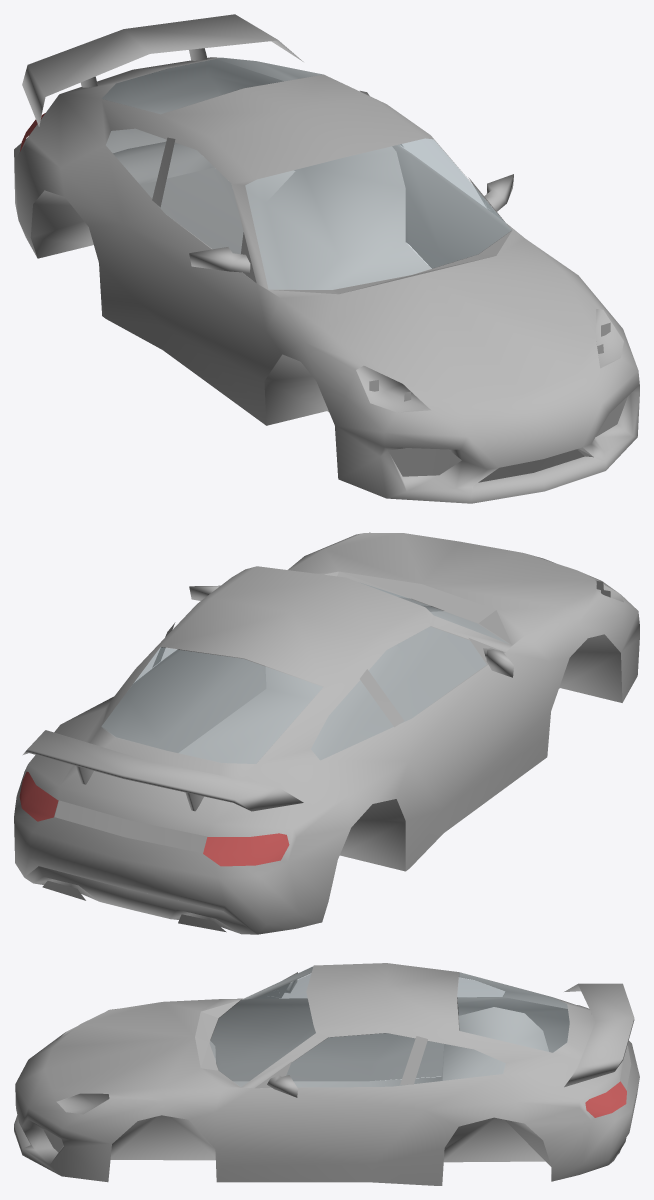
The model's file is Car_12_LOD2.FBX.
3 views of the same model, one above another, from view 1: azimuth 30°, elevation 25°; view 2: azimuth 150°, elevation 25°; view 3: azimuth 270°, elevation 25° (orthographic). The views are drawn at different scales.
Visible parts, largest first — view 1: Body_12, Matte_12, Glass_12; view 2: Body_12, Matte_12, Glass_12, Taillight_12; view 3: Body_12, Glass_12, Matte_12, Taillight_12.
Part boxes in pixels (x1,y1,x2,y2): Body_12: (14, 57, 639, 503); Matte_12: (22, 14, 627, 482); Glass_12: (102, 58, 511, 289); Body_12: (14, 533, 639, 934); Matte_12: (22, 532, 623, 934); Glass_12: (101, 583, 507, 763); Taillight_12: (19, 771, 289, 866); Body_12: (14, 963, 639, 1185); Glass_12: (210, 966, 569, 1087); Matte_12: (43, 972, 634, 1173); Taillight_12: (585, 1081, 626, 1117).
Size of what is drawn, in the model's own units: 1.96 by 1.12 by 4.43.
